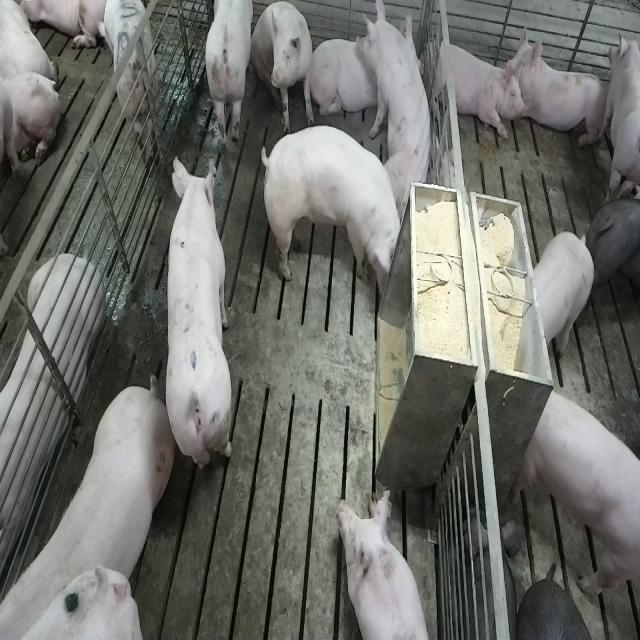Sitting: (359, 0, 438, 210), (251, 1, 316, 123)
Standing: (518, 385, 638, 610), (260, 122, 406, 293), (162, 154, 234, 479), (101, 2, 161, 156), (532, 229, 595, 360), (202, 1, 252, 154), (586, 191, 640, 318), (608, 26, 640, 203), (518, 578, 599, 638)
Sternal_lying: (0, 248, 102, 579), (335, 487, 434, 640), (425, 30, 526, 142), (511, 34, 608, 150), (310, 26, 384, 121)
